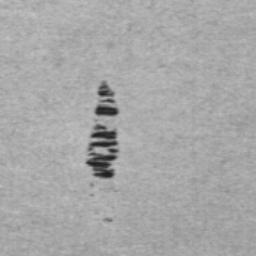Secondary rust skin: (84, 122, 120, 180), (92, 79, 120, 119)
